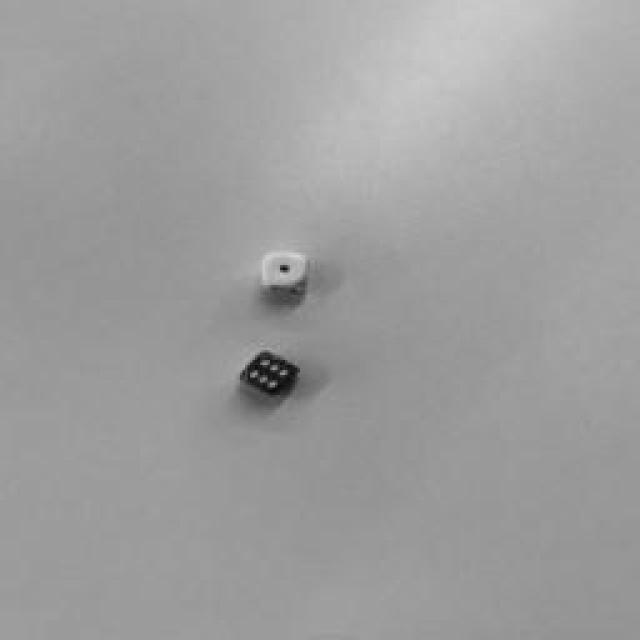dice_1: (262, 254, 308, 286)
dice_6: (244, 353, 298, 395)
